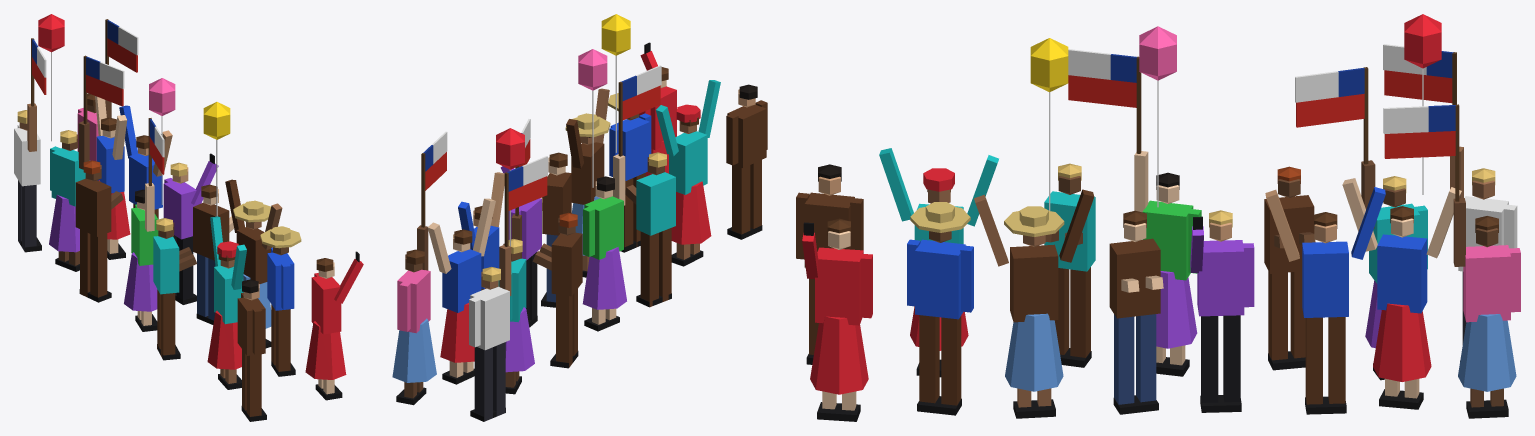
File: publico_fiesta_1.obj
3 views of the same model, side by side, from view 1: azimuth 30°, elevation 25°; view 2: azimuth 150°, elevation 25°; view 3: azimuth 270°, elevation 25° (orthographic). The views are drawn at different scales.
Parts seen in each view (by area): view 1: publico_fiesta_1; view 2: publico_fiesta_1; view 3: publico_fiesta_1.
Part boxes in pixels (x1=…): publico_fiesta_1: x1=14, y1=14, x2=363, y2=421; publico_fiesta_1: x1=392, y1=14, x2=767, y2=421; publico_fiesta_1: x1=796, y1=14, x2=1520, y2=421.
Size of the model in its own units: 1.53 by 3.09 by 5.78.
